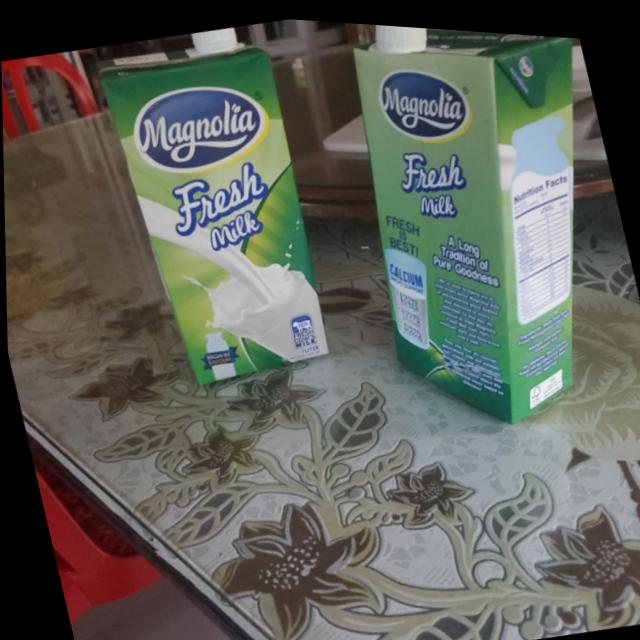milk: (317, 17, 640, 447), (95, 10, 340, 394)
